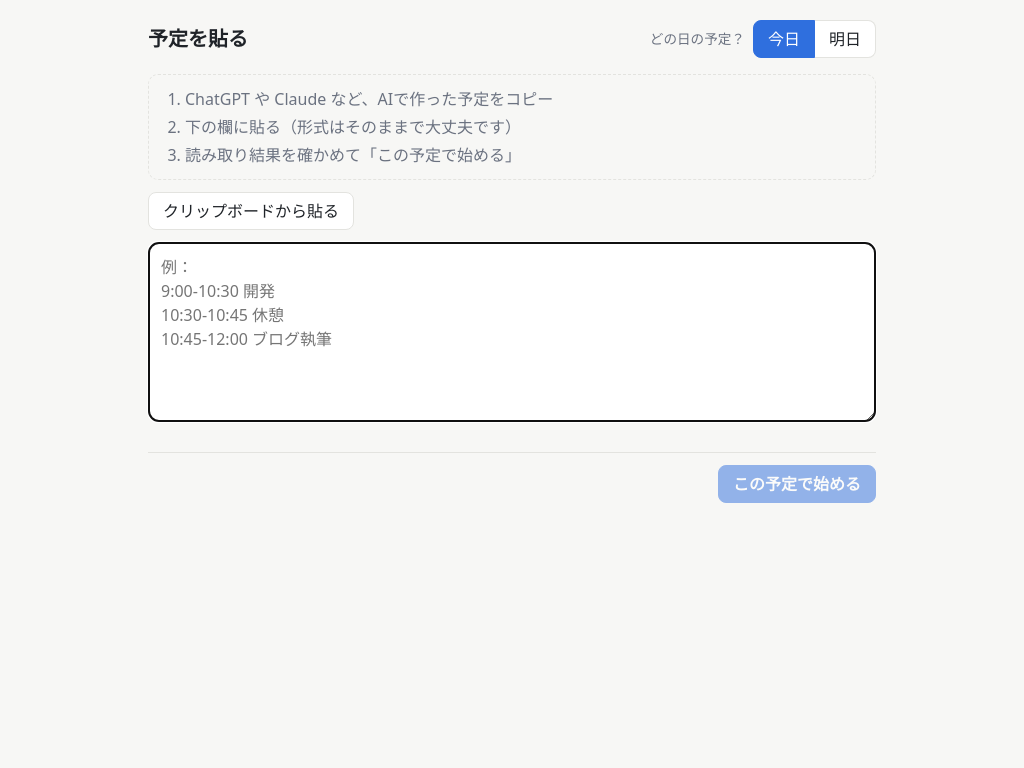
Test case: 実行中の分かりやすさ › 押し間違えたら、元に戻せる
The width and height of the screenshot is (1024, 768).
Type "時間 内容 9:00–10:30 開発①（1.5h） 10:30–10:45 休憩 10:45–12:15 開発②（1.5h） 12:15–13:15 ランニング（60分） 13:15–14:15 シャワー・昼食 14:15–15:45 Notion × Discord連携①（1.5h） 15:45–16:00 休憩 16:00–17:00 Notion × Discord連携②（1h） 17:0" into the text box named "予定のテキスト".
click(512, 332); type("時間 内容 9:00–10:30 開発①（1.5h） 10:30–10:45 休憩 10:45–12:15 開発②（1.5h） 12:15–13:15 ランニング（60分） 13:15–14:15 シャワー・昼食 14:15–15:45 Notion × Discord連携①（1.5h） 15:45–16:00 休憩 16:00–17:00 Notion × Discord連携②（1h） 17:0")  # box [148,242,876,422]
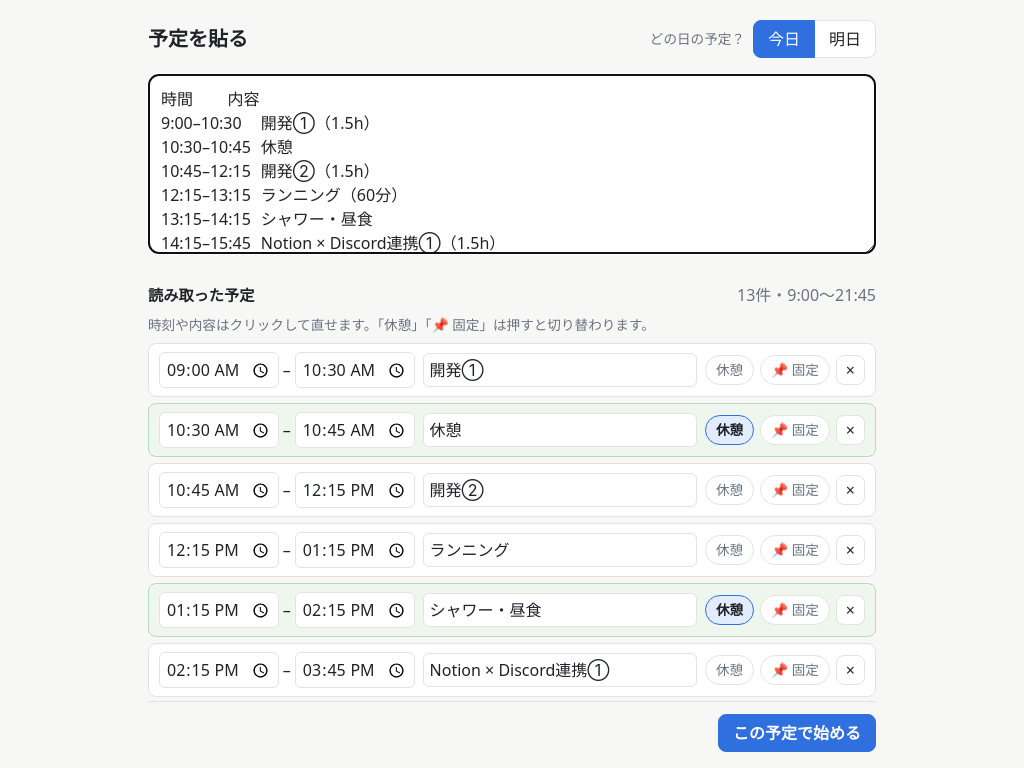
Click the button "この予定で始める".
click(797, 733)  # box [718,714,876,752]
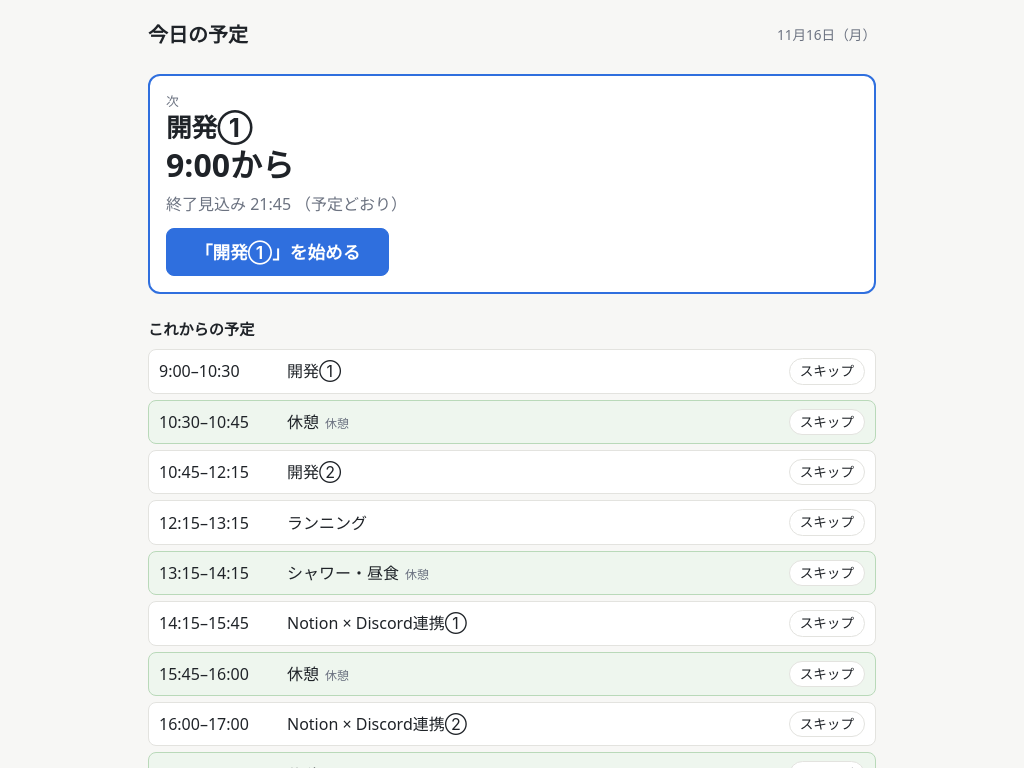
Click the button "「開発①」を始める".
click(278, 252)  # box [166,228,389,276]
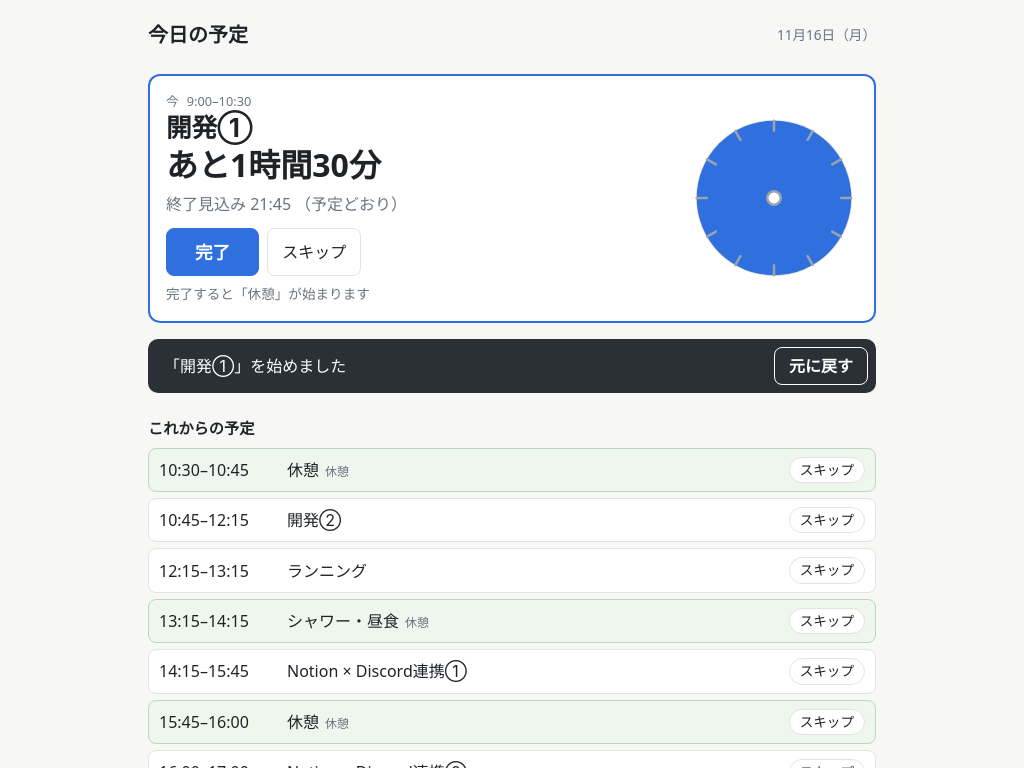
Click the button "完了".
click(213, 252)  # box [166,228,259,276]
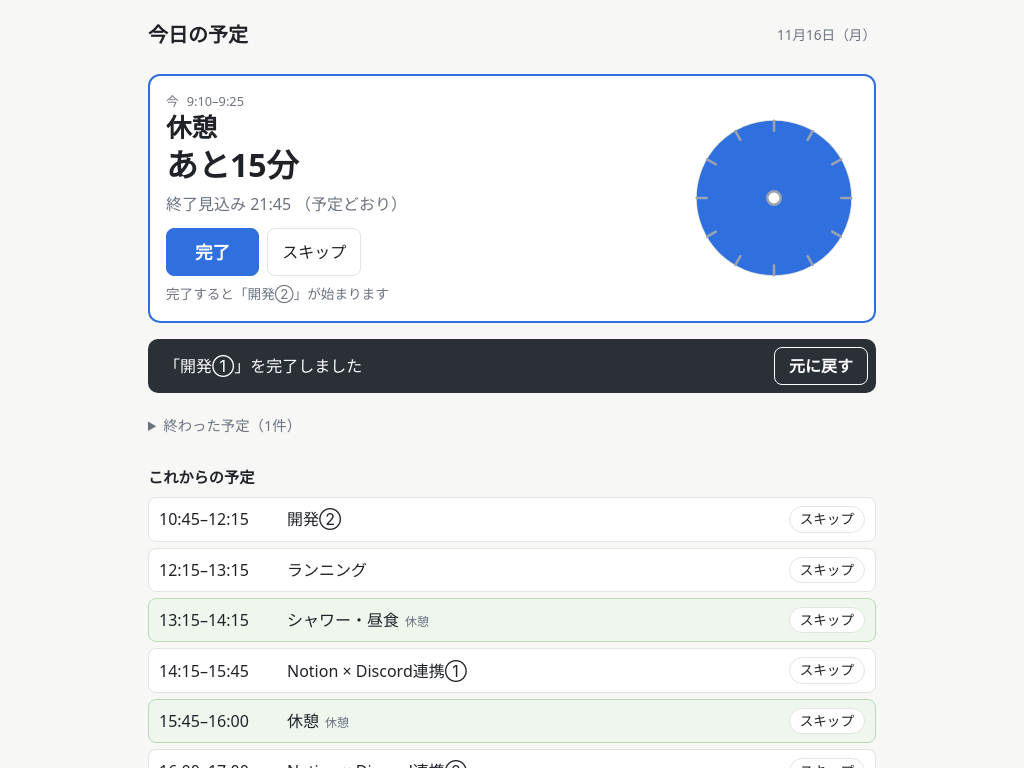
Check: the text "「開発①」を完了しました" is shown, box [164,354,362,378]
Click the button "元に戻す".
click(821, 366)  # box [774,347,868,385]
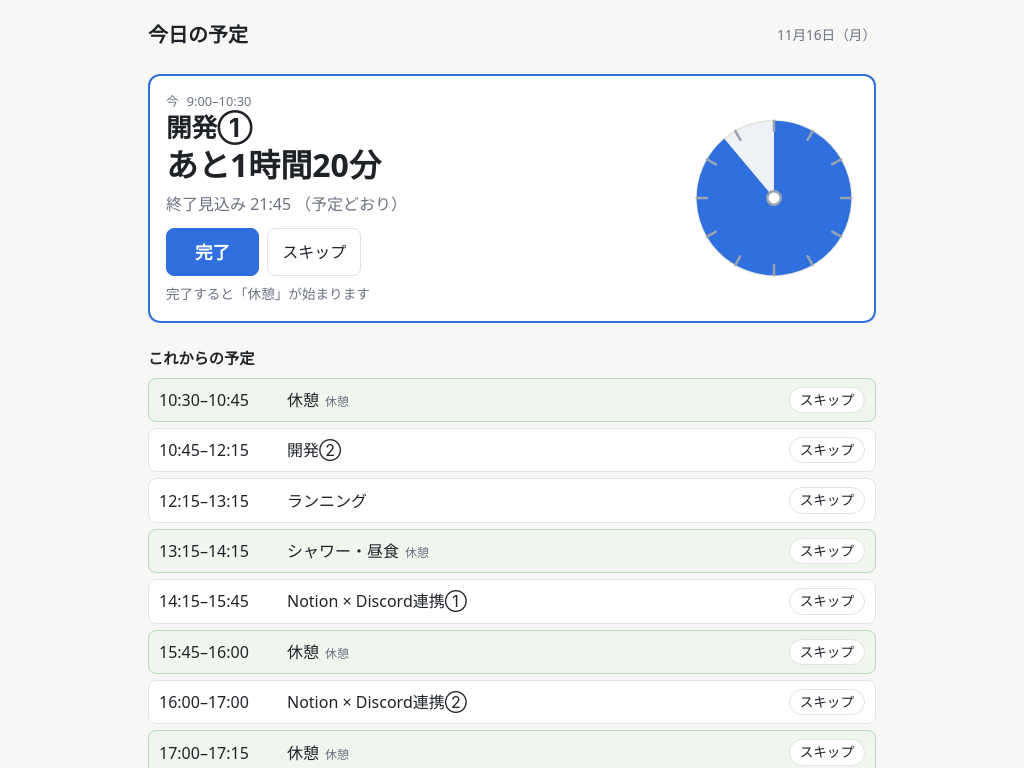
Check: the text "あと1時間20分" is shown, box [166,144,381,186]
Check: the text "「開発①」を完了しました" is gone
